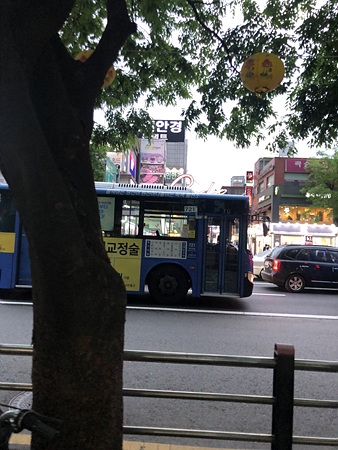entrance: (202, 212, 241, 296)
